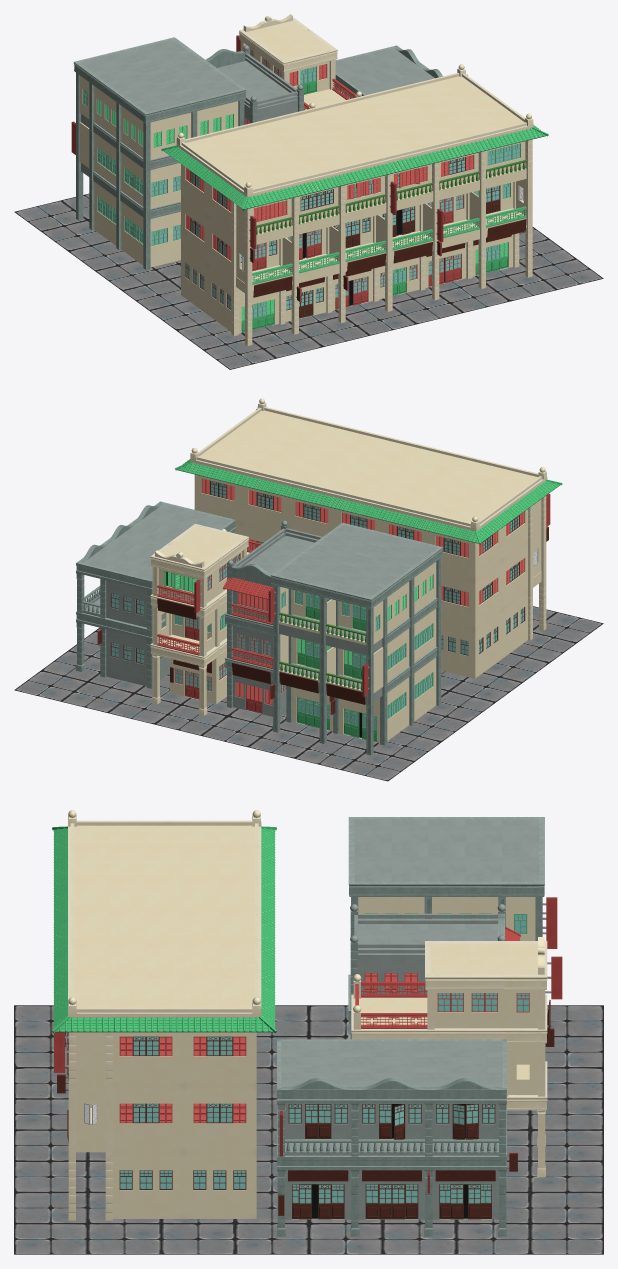
3 views of the same model, one above another, from view 1: azimuth 30°, elevation 25°; view 2: azimuth 150°, elevation 25°; view 3: azimuth 270°, elevation 25° (orthographic). The views are drawn at different scales.
Parts seen in each view (by area): view 1: SM_HongKongBuildings; view 2: SM_HongKongBuildings; view 3: SM_HongKongBuildings.
Part boxes in pixels (left/top/right/bottom): SM_HongKongBuildings: left=14, top=14, right=603, bottom=369; SM_HongKongBuildings: left=14, top=398, right=603, bottom=781; SM_HongKongBuildings: left=14, top=810, right=603, bottom=1254.
Size of the model in its own units: 0.08 by 0.0331 by 0.08.
10 materials, 8 textured.
